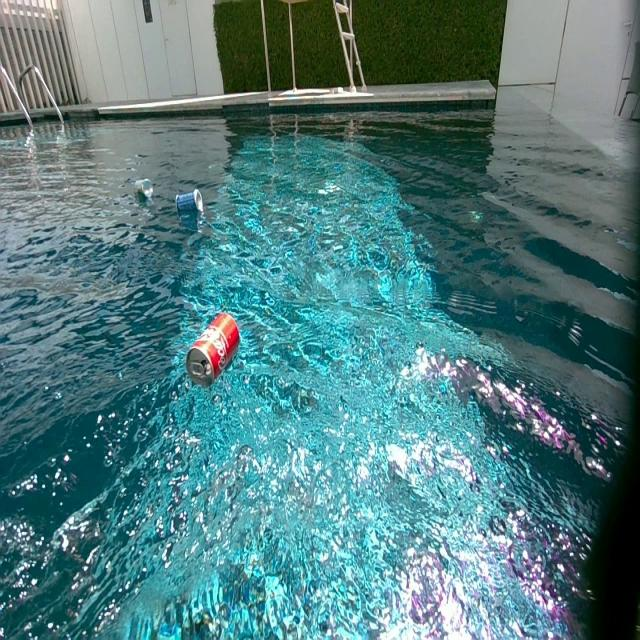Cans: (187, 313, 241, 387), (175, 190, 202, 217), (136, 179, 152, 198)
